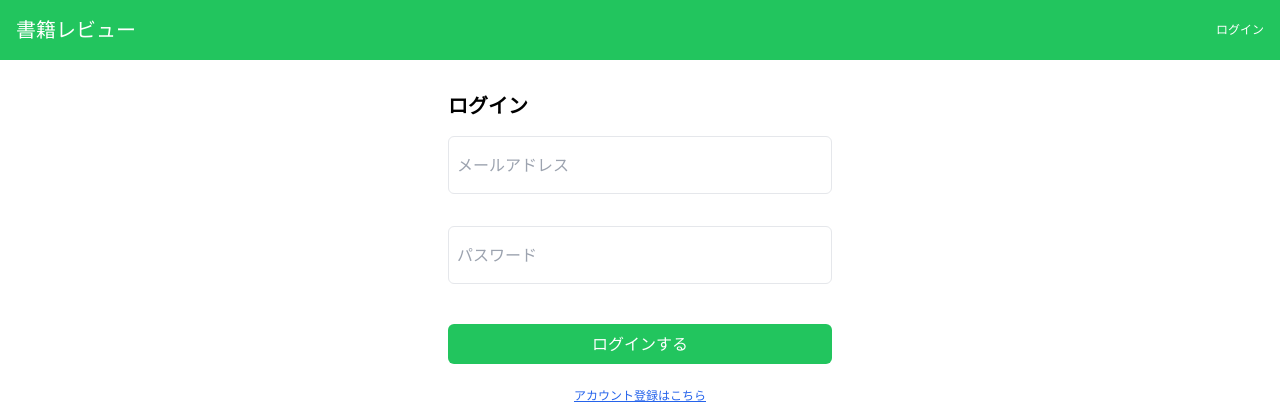
Test: ログインフォーム › emailは必須入力
Click the submit button: click(640, 344) [448,324,832,364]
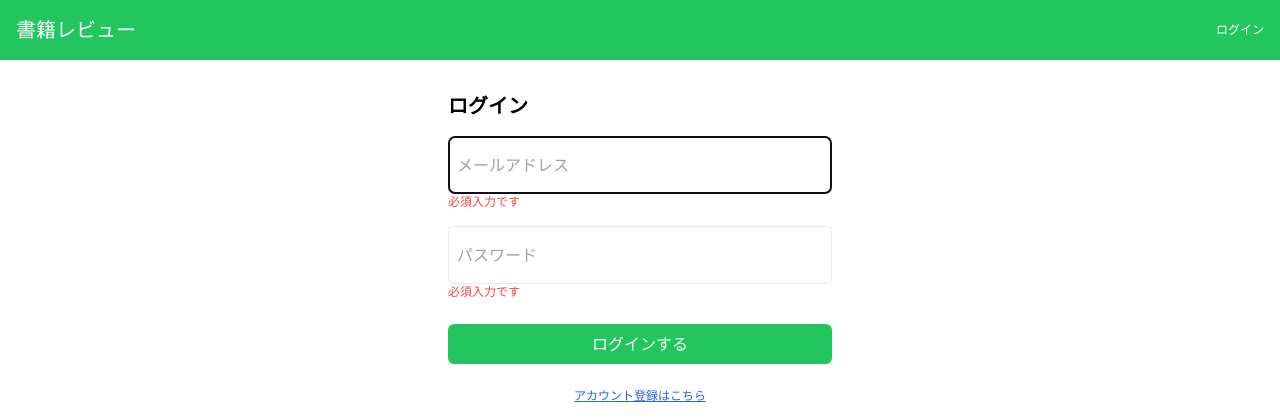
Now the 1st text "必須入力です" is shown, box [448,193,520,210]
